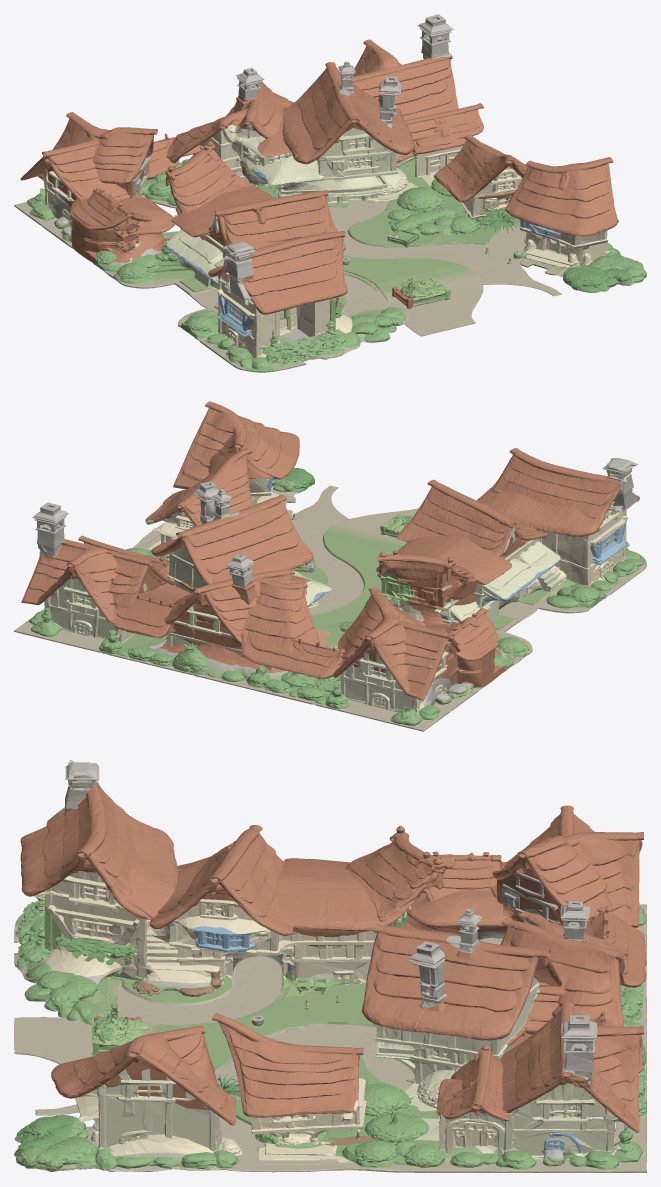
The model's file is village_center.glb.
3 views of the same model, one above another, from view 1: azimuth 30°, elevation 25°; view 2: azimuth 150°, elevation 25°; view 3: azimuth 270°, elevation 25° (orthographic). The views are drawn at different scales.
Visible parts, largest first — view 1: mesh_65, mesh_62, mesh_63, mesh_64, mesh_55, mesh_59, mesh_60, mesh_61, mesh_6, mesh_50, mesh_57, mesh_51 (+15 smaller); view 2: mesh_65, mesh_63, mesh_62, mesh_55, mesh_64, mesh_57, mesh_61, mesh_6, mesh_54, mesh_56, mesh_52, mesh_10 (+13 smaller); view 3: mesh_65, mesh_63, mesh_62, mesh_61, mesh_64, mesh_6, mesh_55, mesh_60, mesh_40, mesh_59, mesh_49, mesh_58 (+17 smaller).
Part boxes in pixels (x1,y1,x2,y2): mesh_65: (20,39,483,263); mesh_62: (14,158,646,372); mesh_63: (165,140,347,314); mesh_64: (231,125,438,203); mesh_55: (505,157,618,236); mesh_59: (207,307,406,372); mesh_60: (387,165,520,247); mesh_61: (216,272,352,357); mesh_6: (434,134,527,202); mesh_50: (519,224,607,267); mesh_57: (165,214,227,286); mesh_51: (94,242,187,283); mesh_65: (21,495,505,700); mesh_63: (376,448,639,624); mesh_62: (14,485,646,731); mesh_55: (173,401,299,489); mesh_64: (44,546,331,648); mesh_57: (399,527,566,624); mesh_61: (393,502,627,621); mesh_6: (145,447,253,526); mesh_54: (339,648,495,713); mesh_56: (247,665,349,708); mesh_52: (99,629,244,681); mesh_10: (32,502,68,557); mesh_65: (361,805,645,1133); mesh_63: (20,782,447,946); mesh_62: (14,904,646,1172); mesh_61: (34,871,376,984); mesh_64: (374,976,621,1158); mesh_6: (212,1013,363,1117); mesh_55: (51,1025,235,1125); mesh_60: (236,1074,458,1167); mesh_40: (86,1062,217,1151); mesh_59: (14,895,124,1025); mesh_49: (16,1116,239,1171); mesh_58: (251,1061,366,1162).
Bounding box in the file's own units: 74.95 × 22.31 × 75.
